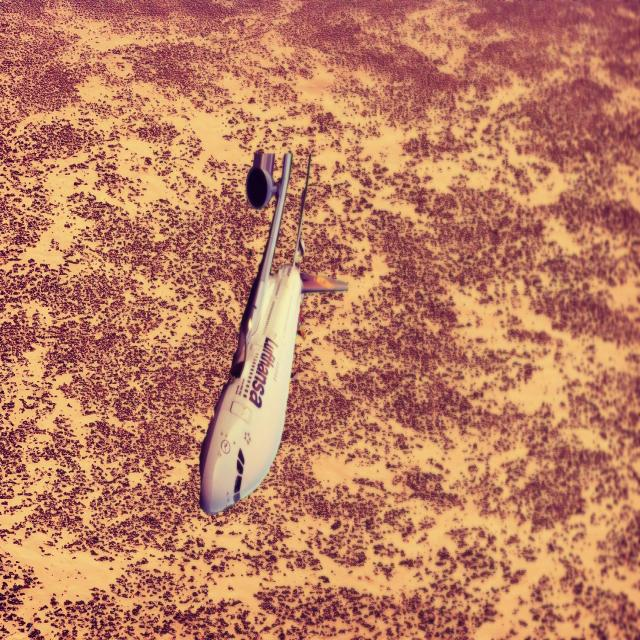airplane: (198, 148, 349, 516)
